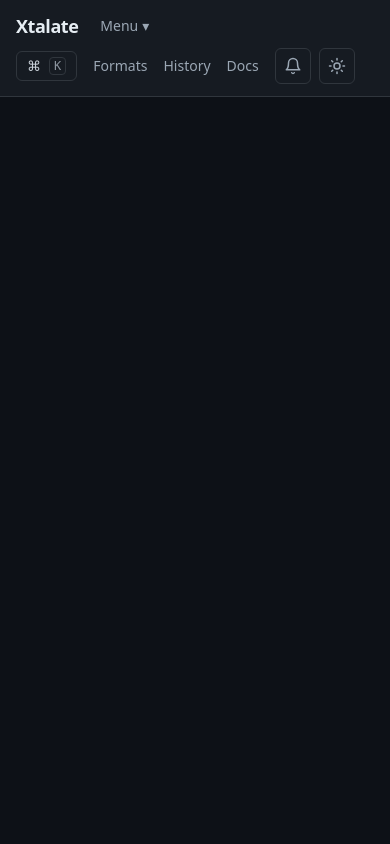
Test case: Toolbar › overflow disclosure › closes on an outside pointer-down
The width and height of the screenshot is (390, 844).
Click the button "Menu ▾" at x=125, y=26, box 94,12 -> 155,40
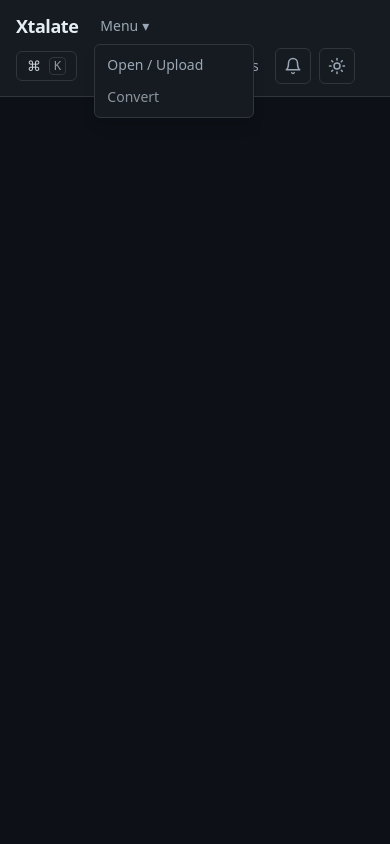
expect the element with id "toolbar-overflow-menu" is shown: met, box 94,44 -> 254,118
Press the mouse on the element that starts with "Xtalate" at x=195, y=422, box 0,0 -> 389,843
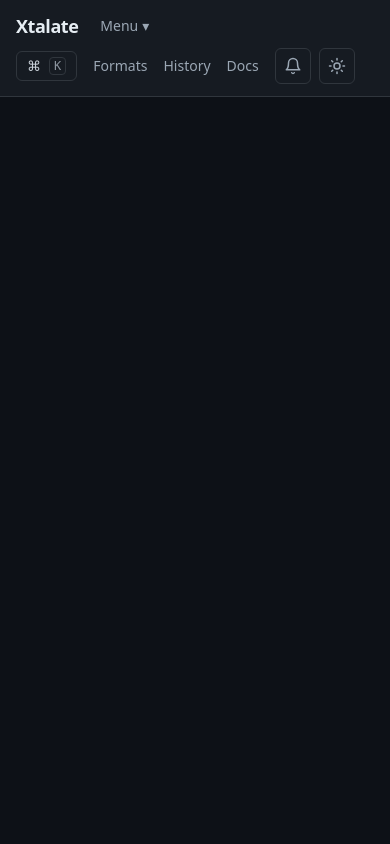
expect the element with id "toolbar-overflow-menu" is gone: met
